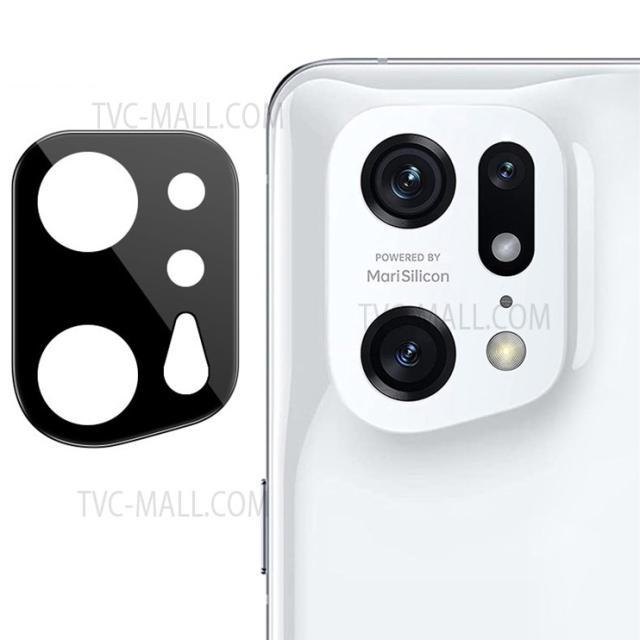hidden camera: (270, 104, 616, 445)
